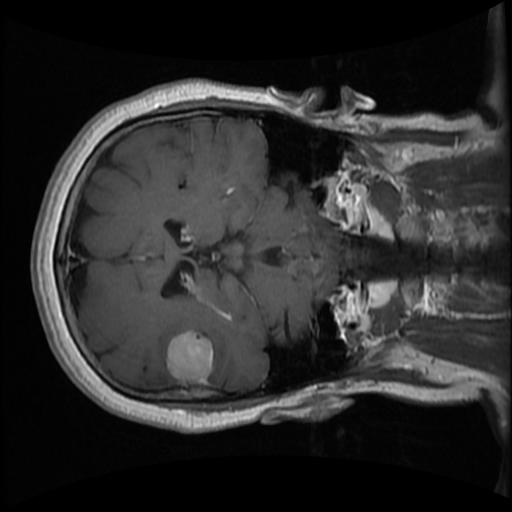meningioma: (165, 331, 214, 381)
